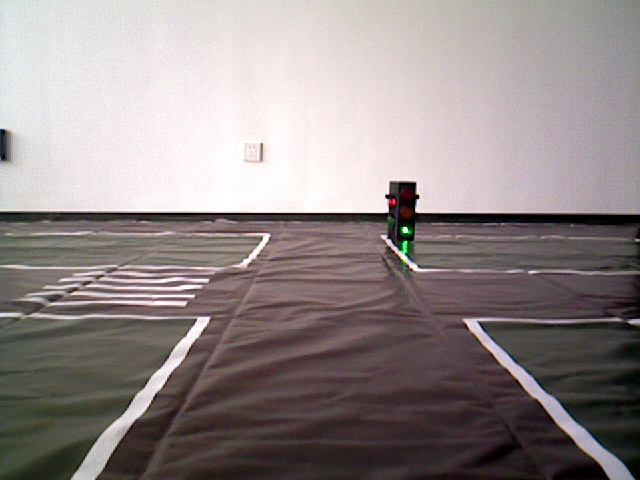green: (387, 181, 412, 236)
